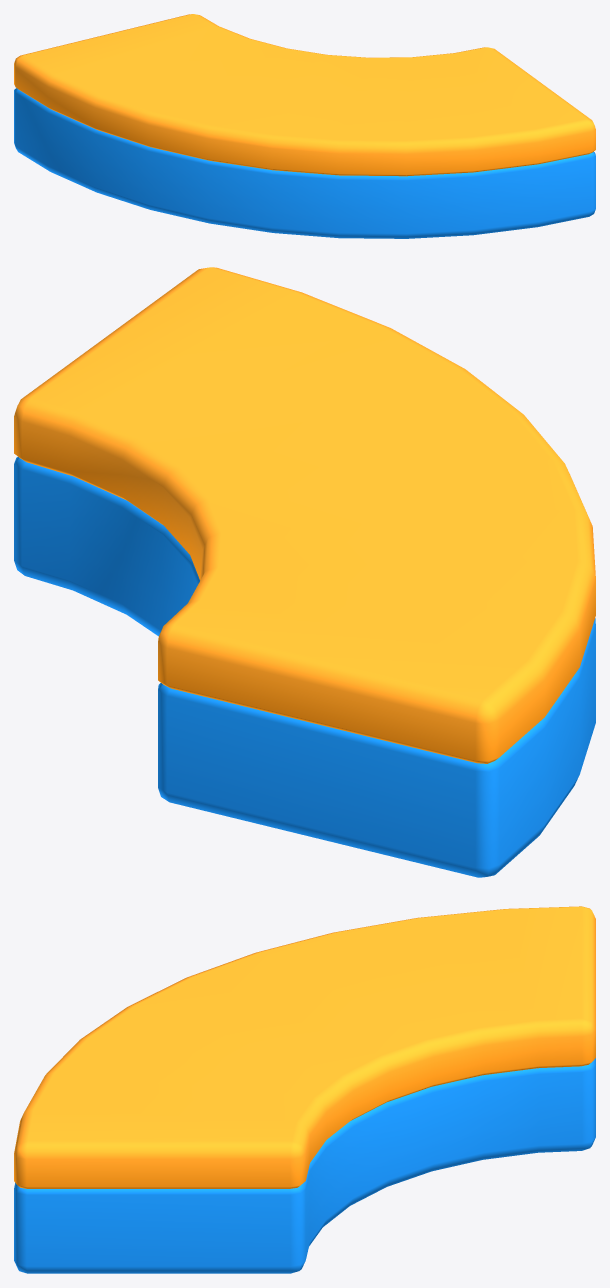
File: Platform_25.glb
The picture shows the model from 3 angles, top to bottom: view 1: azimuth 30°, elevation 25°; view 2: azimuth 150°, elevation 25°; view 3: azimuth 270°, elevation 25°; orthographic projection. The views are drawn at different scales.
Parts seen in each view (by area): view 1: Platform_25; view 2: Platform_25; view 3: Platform_25.
Part boxes in pixels (x1,y1,x2,y2): Platform_25: (14, 14, 595, 238); Platform_25: (14, 267, 595, 877); Platform_25: (14, 906, 595, 1273).
Size of the model in its own units: 11.98 by 3 by 11.98.
1 material, 1 textured.
